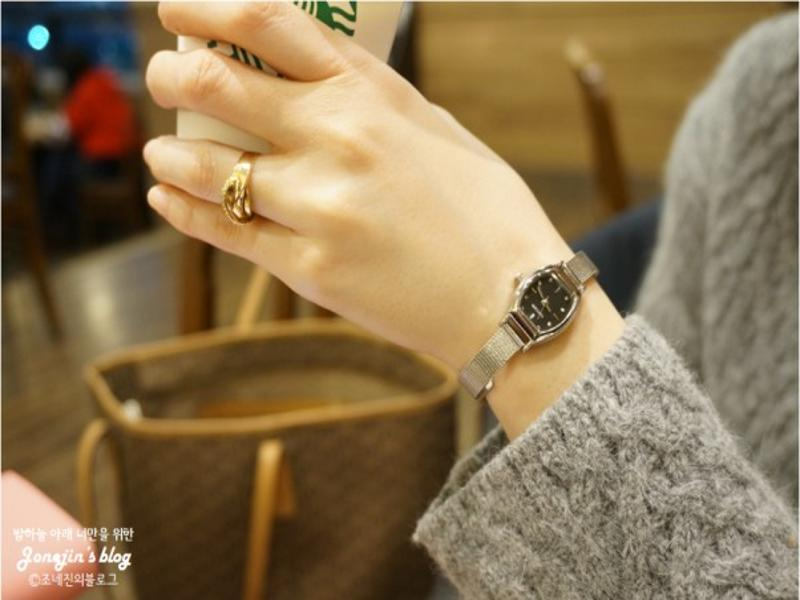watch: (460, 248, 603, 398)
